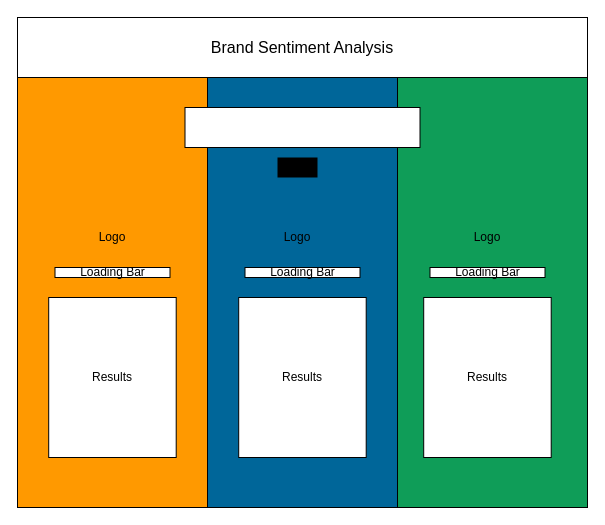
Image size: 605x525. Some labels were removed from this diagram. Each missing label, with the centre of its shape:
"Brand Name:" belongs at point 302,127.
"Enter" belongs at point 297,167.
